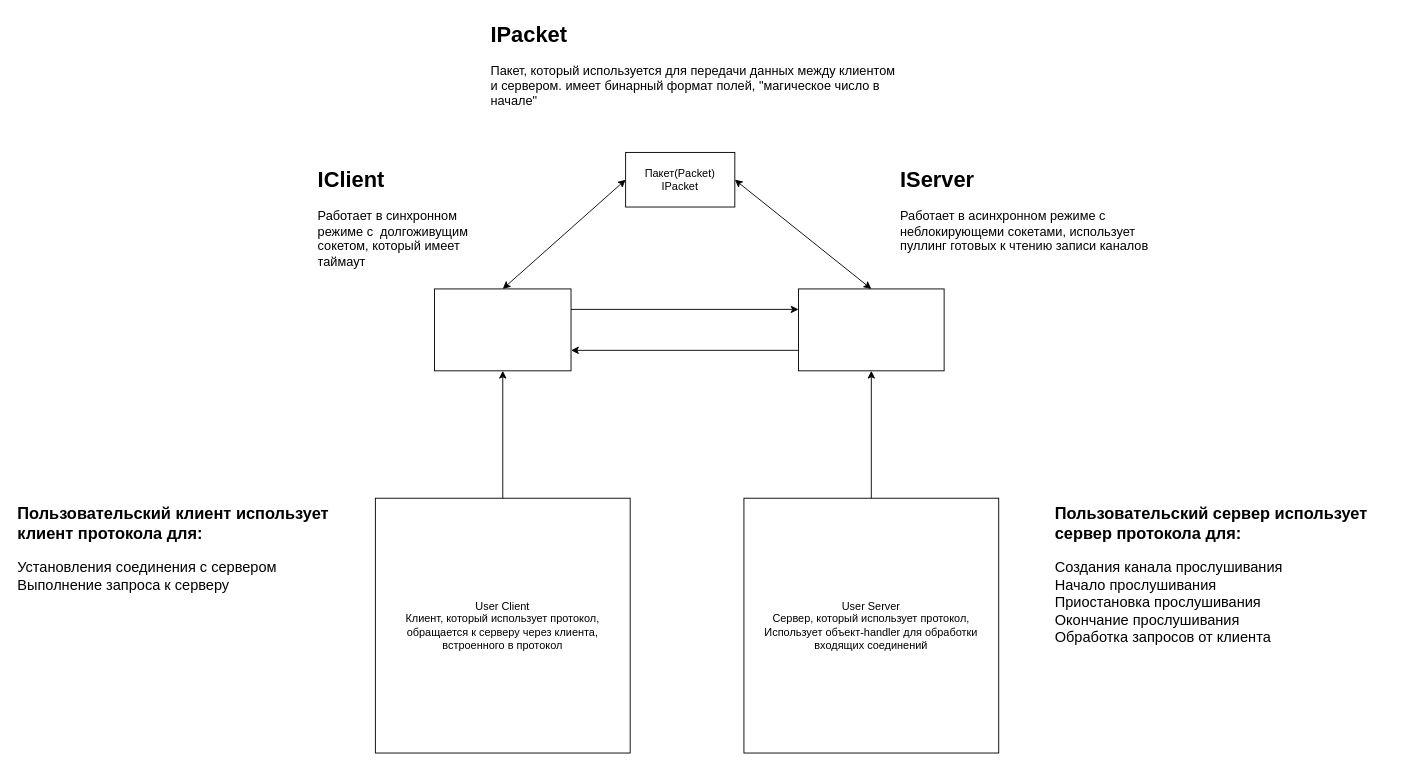
The diagram is 1405 pixels wide and 769 high, and some of its shapes have lost their labels. The shapes that lost their labels are listed below. From the top down, each one's centre as x and y in pixels, then its label:
[502,329]: Client - IClient
[871,329]: Server - IServer
